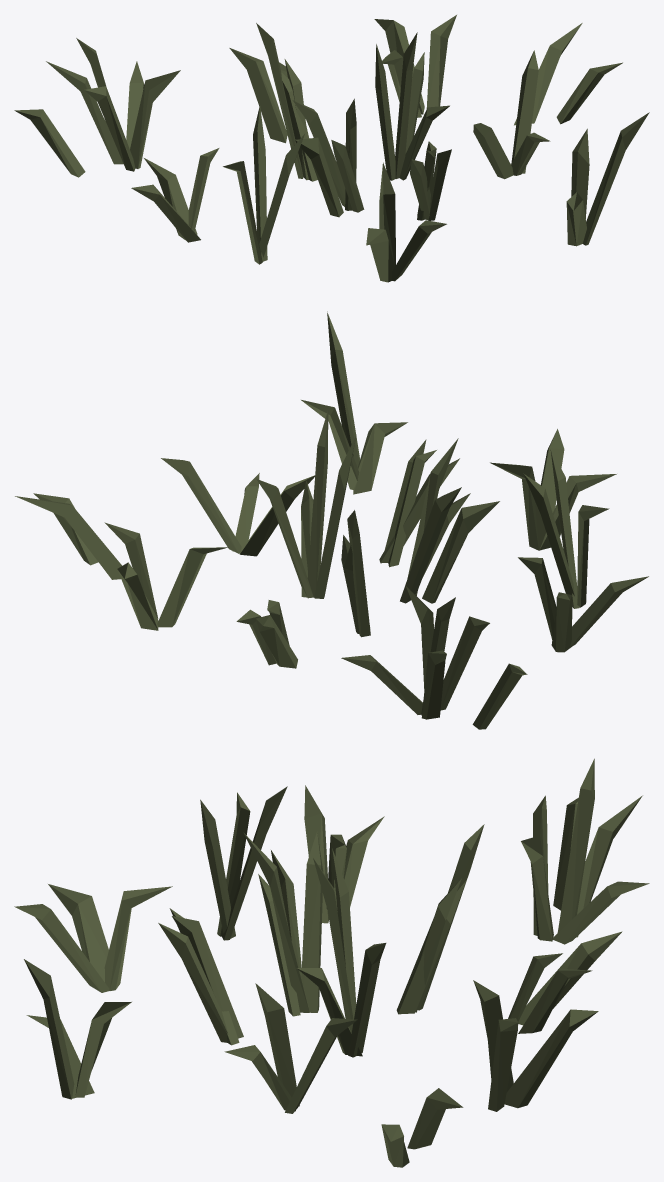
File: SM_Generic_Grass_Patch_03.glb
3 views of the same model, one above another, from view 1: azimuth 30°, elevation 25°; view 2: azimuth 150°, elevation 25°; view 3: azimuth 270°, elevation 25° (orthographic). The views are drawn at different scales.
Parts seen in each view (by area): view 1: SM_Generic_Grass_Patch_03; view 2: SM_Generic_Grass_Patch_03; view 3: SM_Generic_Grass_Patch_03.
Part boxes in pixels (box(x1,y1,x2,y2)): SM_Generic_Grass_Patch_03: box(14, 15, 649, 282); SM_Generic_Grass_Patch_03: box(15, 311, 648, 729); SM_Generic_Grass_Patch_03: box(14, 758, 649, 1167).
Bounding box in the file's own units: 3.27 × 0.9256 × 2.72.
Materials: 1 (1 with a texture image).
